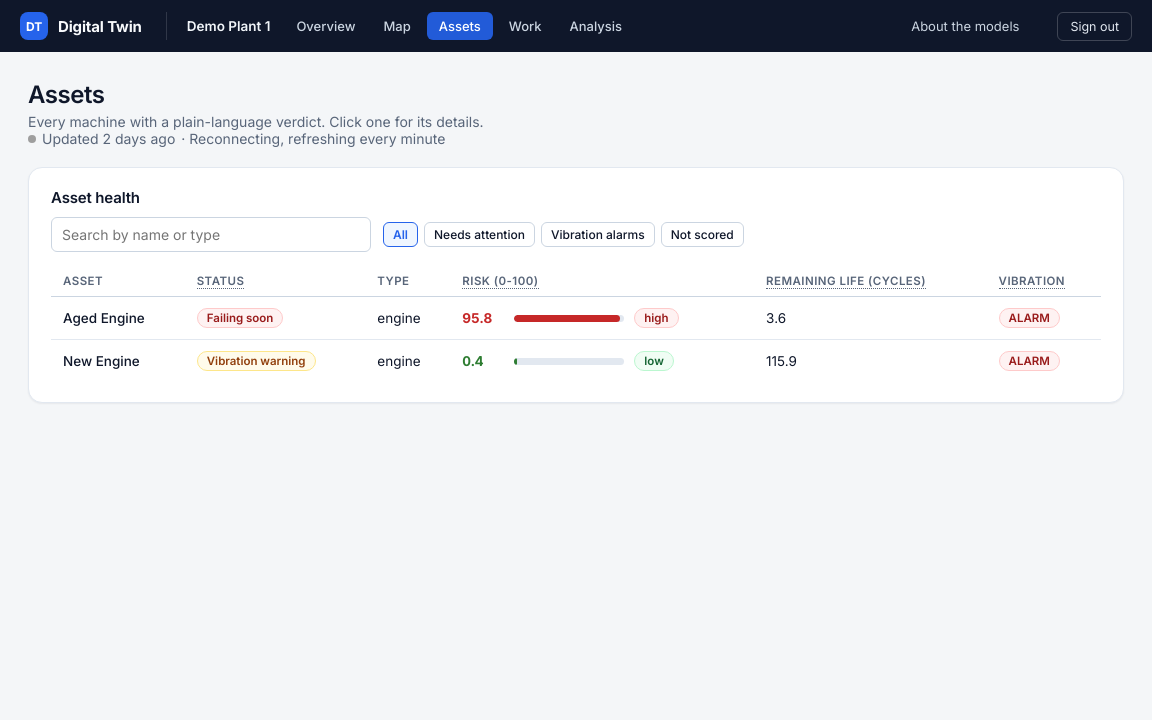
it: FacilityAssetsPage › asset panel › is read-only on Results: no delete, unlink or state change
Click the button "Aged Engine" at (104, 318), box [63, 310, 145, 326]
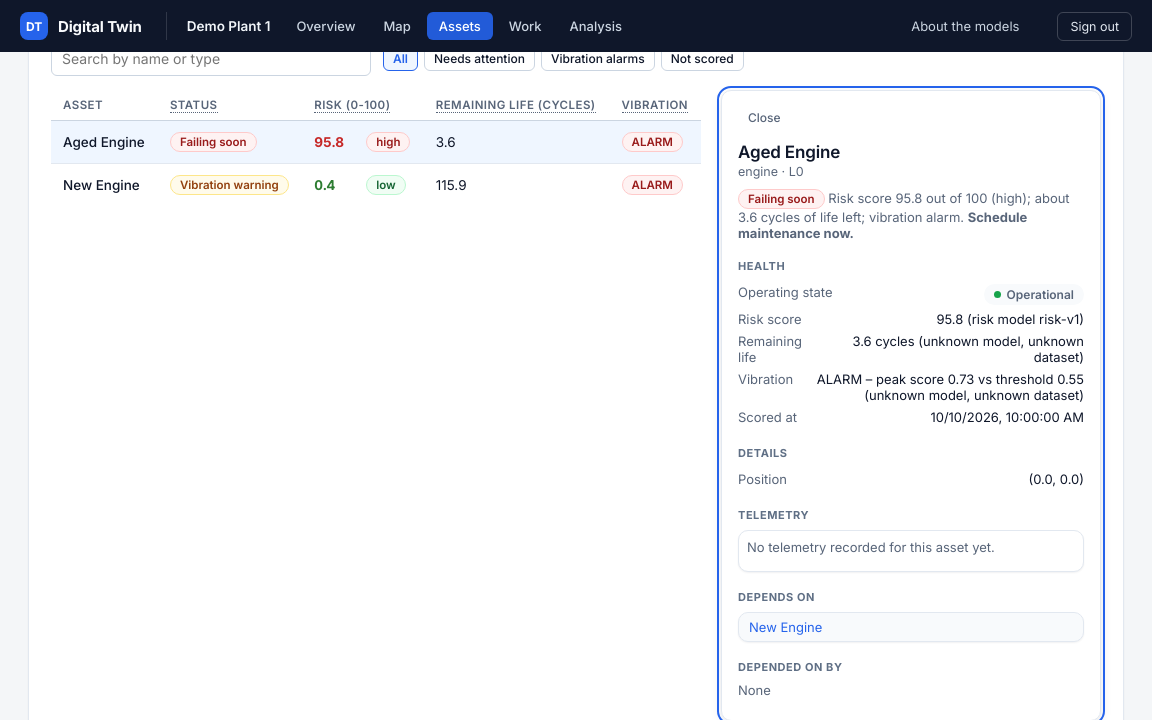
Check: the button "New Engine" below "Depends on" is shown, box [749, 619, 822, 635]
